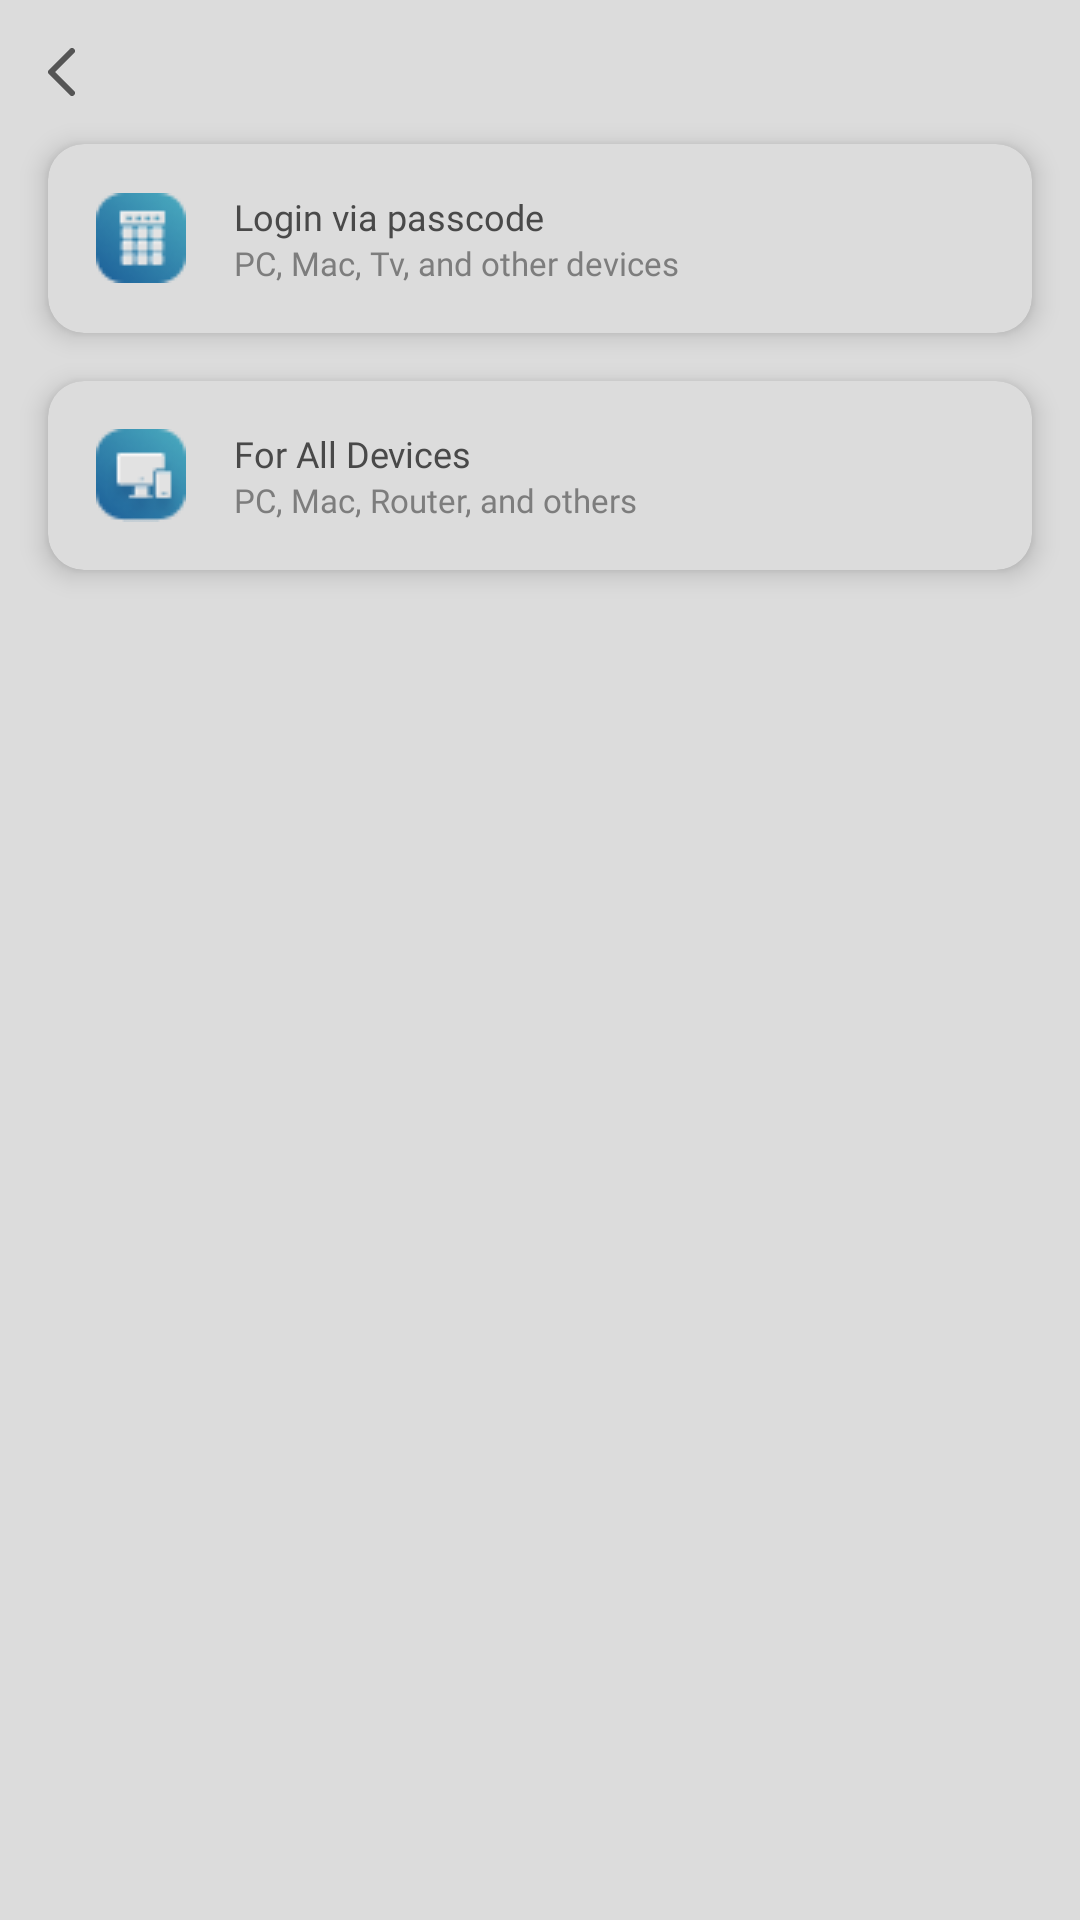

Screen size 1080 × 1920. Icon name, then its center in pixels as point (x, y):
arrow back: point (61, 72)
